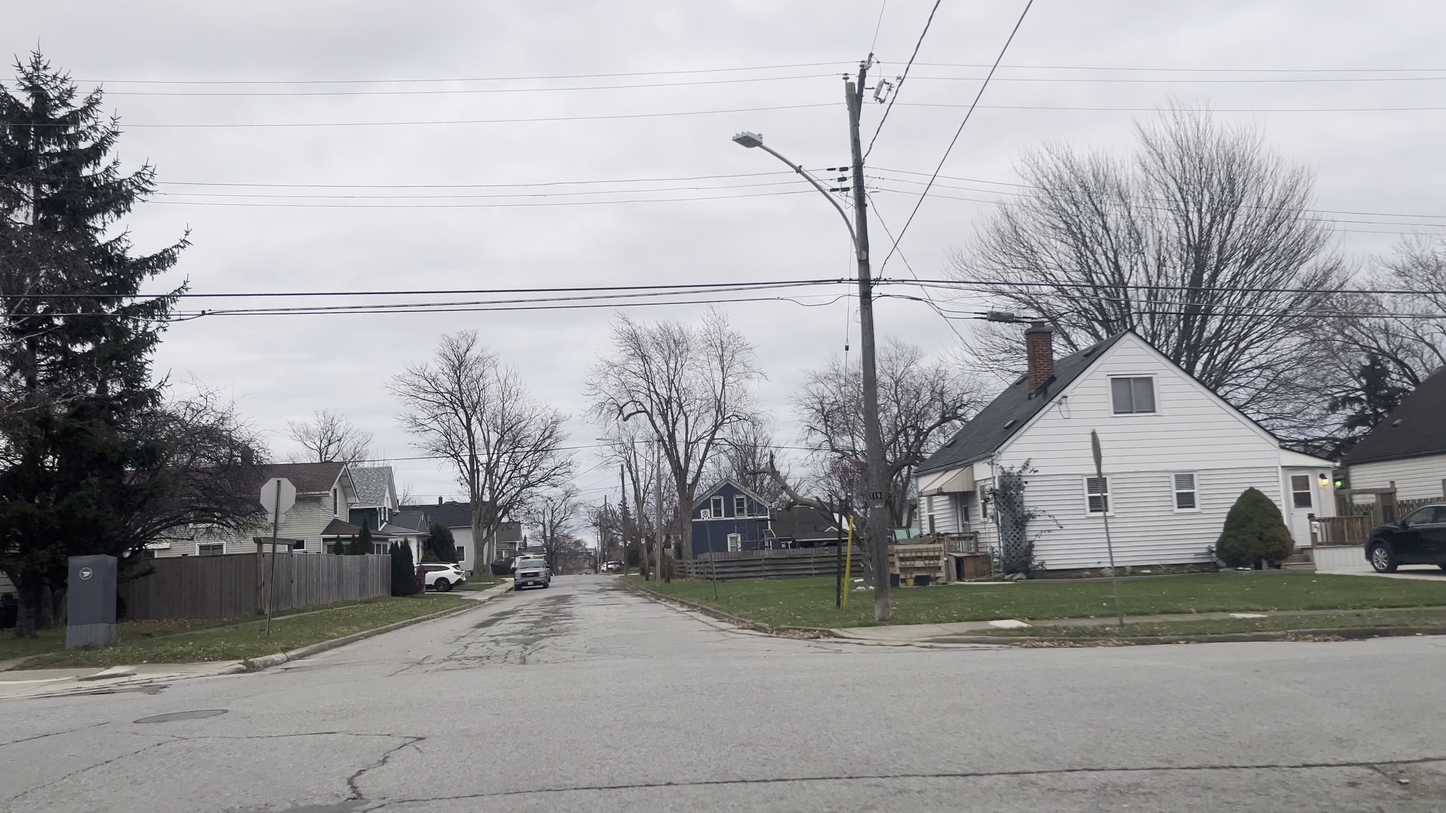cracks: (1319, 743, 1445, 794), (328, 750, 399, 813), (452, 640, 554, 667), (483, 614, 576, 637), (532, 597, 579, 615)
